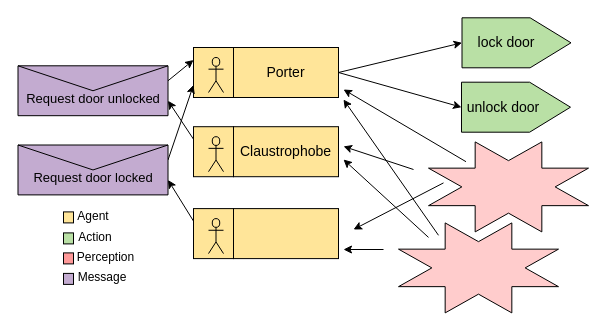
This 606x331 diagram has some shape labels left out. The shapes that lost their labels are listed below. From the top down, each one's centre as x and y in pixels, then its label:
At pixel 508 186: "door unlocked".
At pixel 285 233: "Paranoid".
At pixel 478 267: "door locked".
